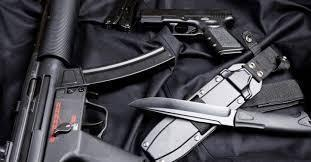Gun: (0, 0, 175, 161)
Knife: (128, 95, 311, 134)
Pistol: (139, 8, 244, 56)
